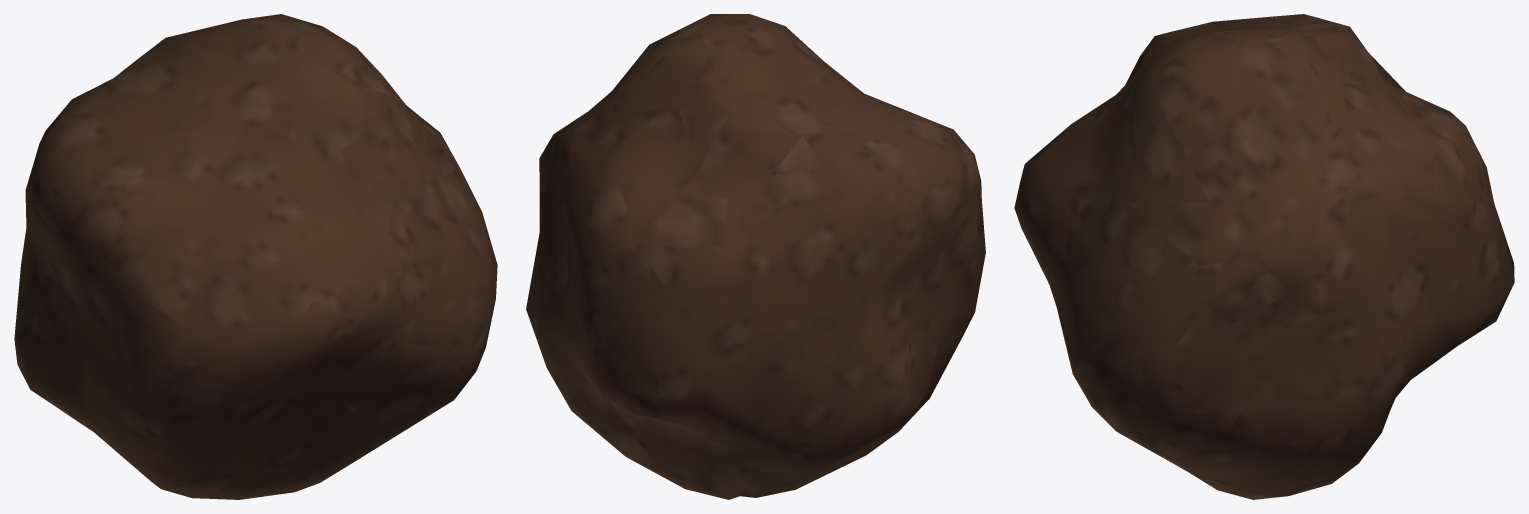
The model's file is PieceOfLand1.fbx.
The picture shows the model from 3 angles, left to right: view 1: azimuth 30°, elevation 25°; view 2: azimuth 150°, elevation 25°; view 3: azimuth 270°, elevation 25°; orthographic projection. The views are drawn at different scales.
Parts seen in each view (by area): view 1: PieceOfLand1; view 2: PieceOfLand1; view 3: PieceOfLand1.
Part boxes in pixels (x1,y1,x2,y2): PieceOfLand1: [14, 14, 497, 499]; PieceOfLand1: [526, 14, 985, 499]; PieceOfLand1: [1014, 14, 1514, 499].
Size of the model in its own units: 185 by 204 by 201.
1 material, 1 textured.
